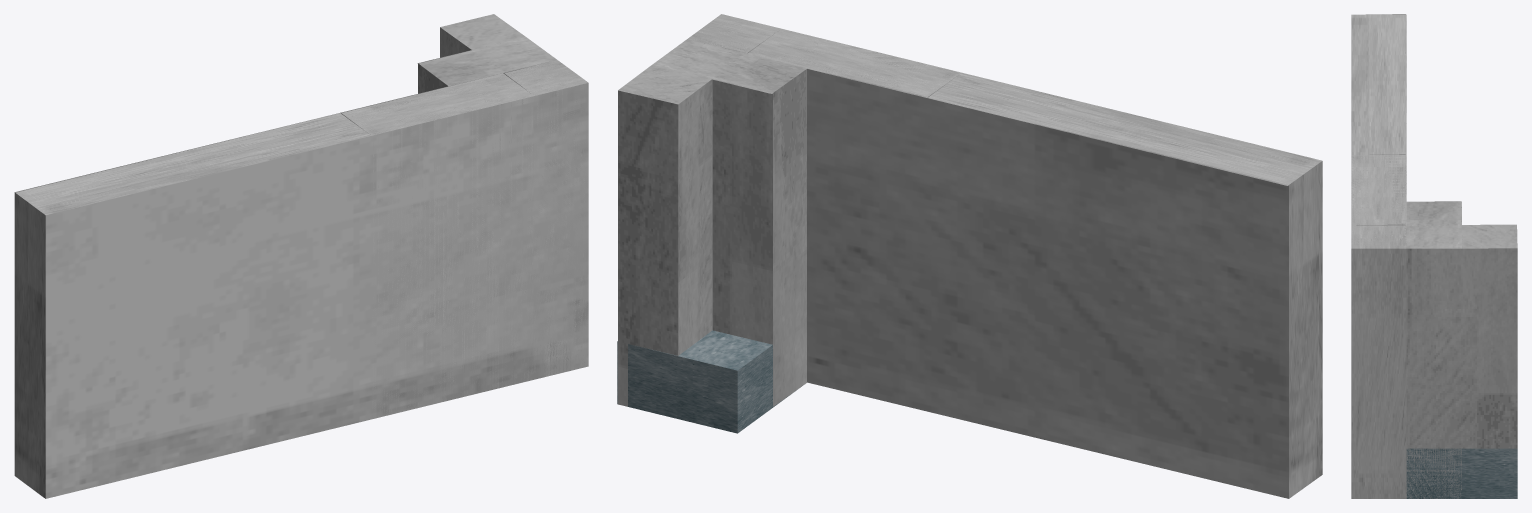
File: PAREDECHAO21.glb
3 views of the same model, side by side, from view 1: azimuth 30°, elevation 25°; view 2: azimuth 150°, elevation 25°; view 3: azimuth 270°, elevation 25° (orthographic). The views are drawn at different scales.
Visible parts, largest first — view 1: PAREDENORMAL-COL, PAREDEPEQUENA-COL.001, PAREDECANTO-COL, PAREDEMINUSCULA-COL; view 2: PAREDENORMAL-COL, PAREDECANTO-COL, CHAO-col, PAREDEPEQUENA-COL.001; view 3: PAREDECANTO-COL, PAREDENORMAL-COL, CHAO-col, PAREDEPEQUENA-COL.001.
Boxes of the visible parts, bbox=[...] form: PAREDENORMAL-COL: bbox=[14, 60, 588, 498]; PAREDEPEQUENA-COL.001: bbox=[340, 60, 588, 418]; PAREDECANTO-COL: bbox=[417, 14, 556, 93]; PAREDEMINUSCULA-COL: bbox=[503, 61, 588, 356]; PAREDENORMAL-COL: bbox=[687, 14, 1322, 498]; PAREDECANTO-COL: bbox=[618, 39, 806, 406]; CHAO-col: bbox=[617, 330, 800, 433]; PAREDEPEQUENA-COL.001: bbox=[689, 15, 961, 97]; PAREDECANTO-COL: bbox=[1406, 201, 1517, 498]; PAREDENORMAL-COL: bbox=[1351, 14, 1406, 498]; CHAO-col: bbox=[1406, 448, 1517, 498]; PAREDEPEQUENA-COL.001: bbox=[1351, 154, 1406, 248].
Bounding box in the file's own units: 10 × 5 × 3.
5 materials, 5 textured.
